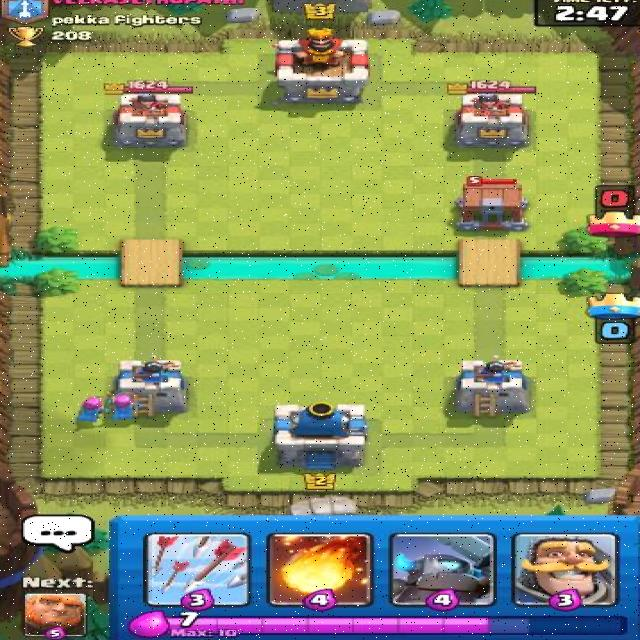Enemy-GoblinCage: (448, 175, 532, 234)
Player-Archer: (100, 390, 143, 420), (75, 394, 111, 424)
